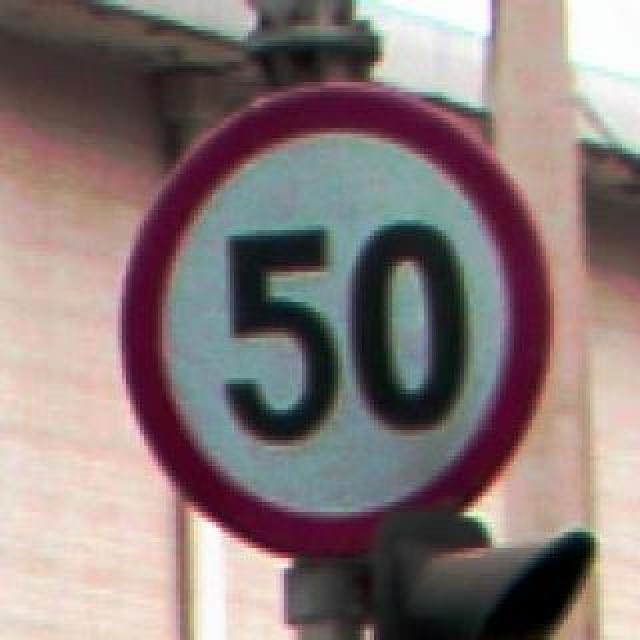50 kph: (110, 78, 546, 554)
